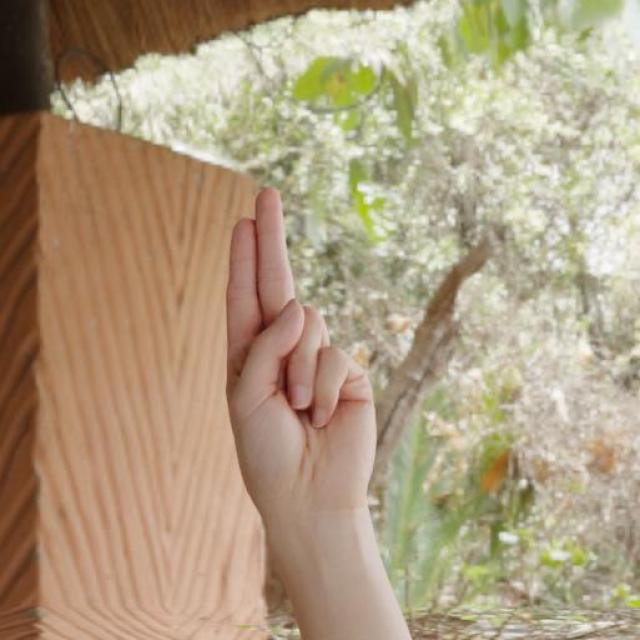U: (221, 185, 383, 574)
